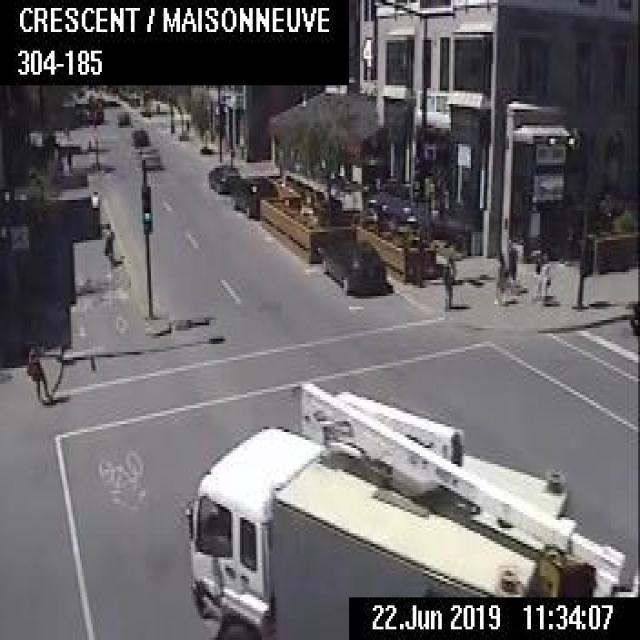cyclist: (101, 221, 115, 266), (87, 186, 100, 234)
pedestrian: (24, 344, 49, 403), (492, 248, 507, 304), (503, 239, 518, 295), (441, 252, 456, 308), (541, 258, 552, 304), (531, 252, 542, 298)
vehicle: (187, 379, 638, 637), (346, 590, 638, 638), (316, 236, 388, 296), (230, 173, 276, 217), (207, 162, 240, 192), (137, 143, 161, 167), (130, 126, 149, 146)
